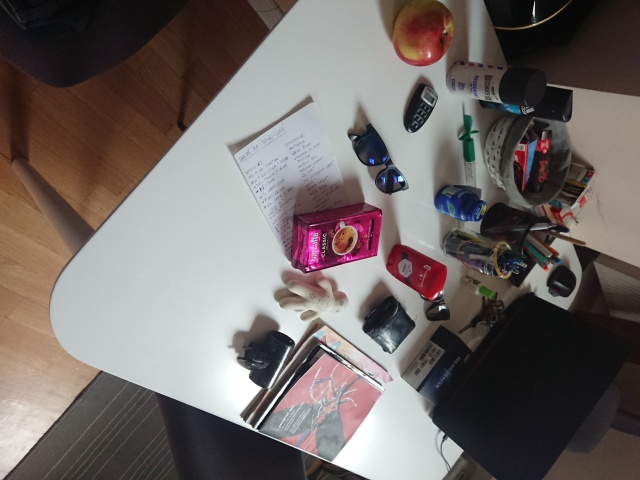Barcaffe Classic Original 225g: (288, 201, 384, 275)
